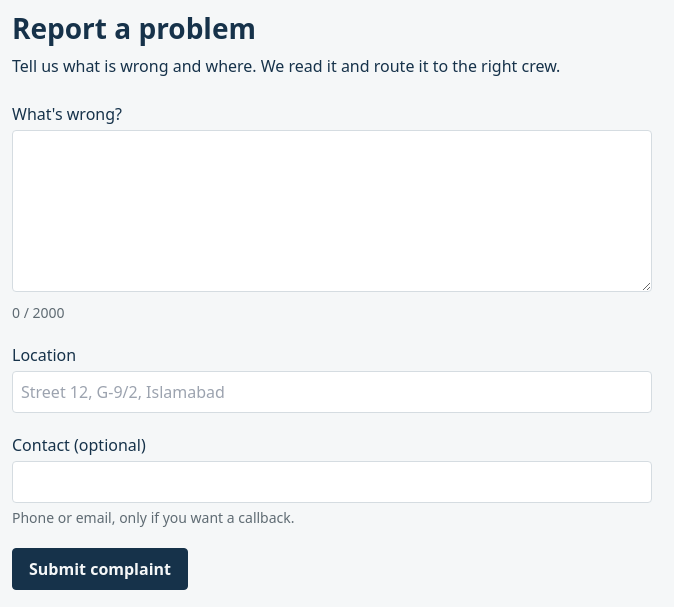
6. rules:fallback renders as 'Keyword rules (AI unavailable)'
In the text box labelled "What's wrong?": (332, 211) [12,130,652,292], type "Something is generally wrong here"
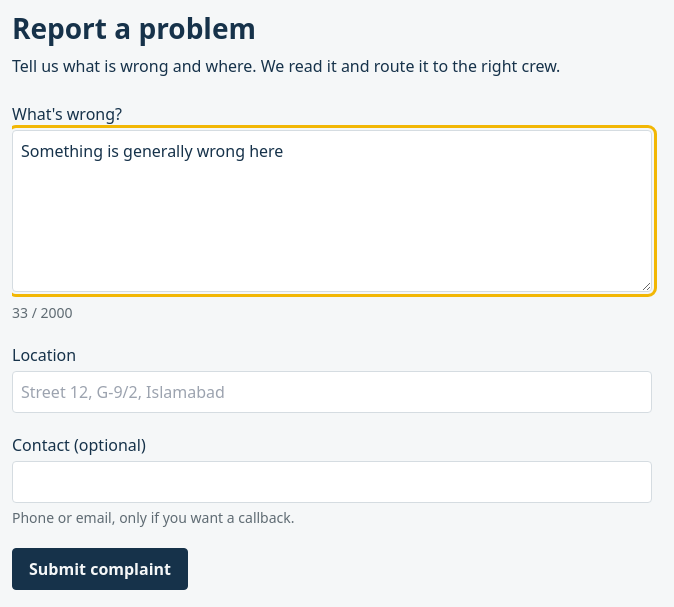
In the field labelled "Location": (332, 392) [12,371,652,413], type "Test Street 12"
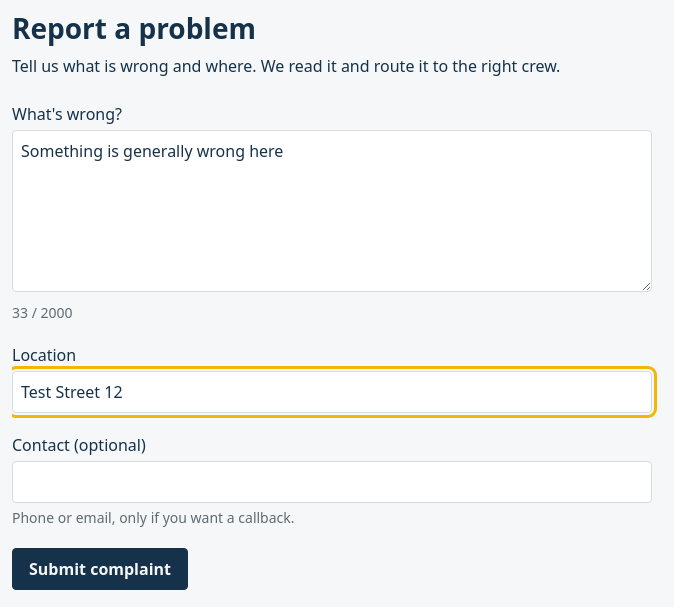
Click the button "Submit complaint": (100, 569) [12,548,188,590]
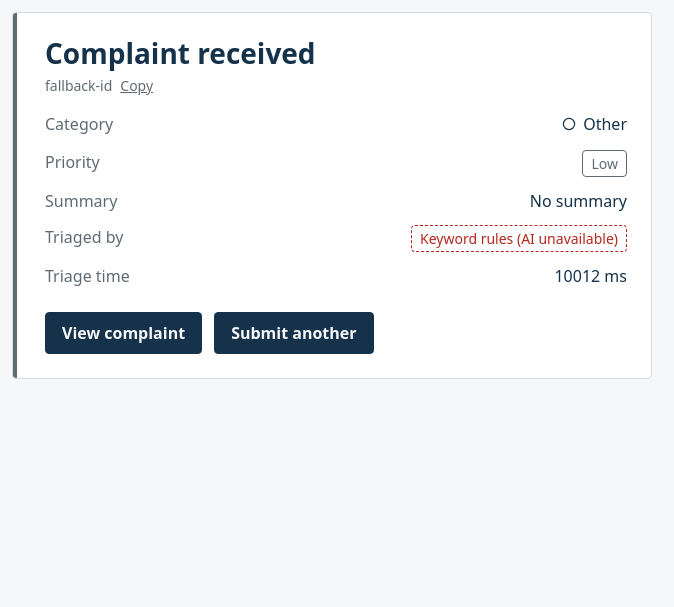
Expected: the text "Keyword rules (AI unavailable)" is shown, [411,225,627,252]
